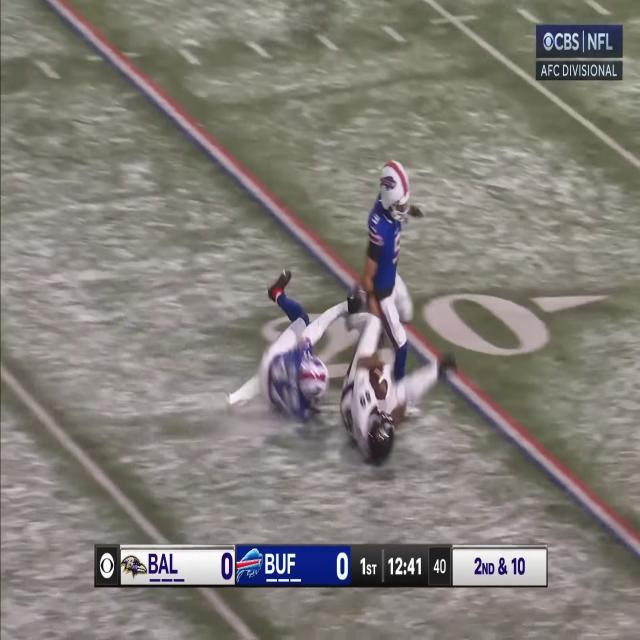Ball: (369, 366, 387, 399)
